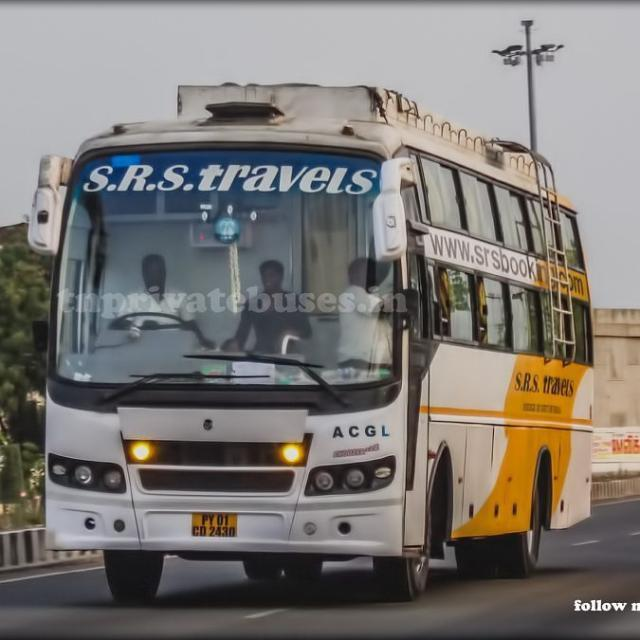Bus: (24, 82, 604, 605)
